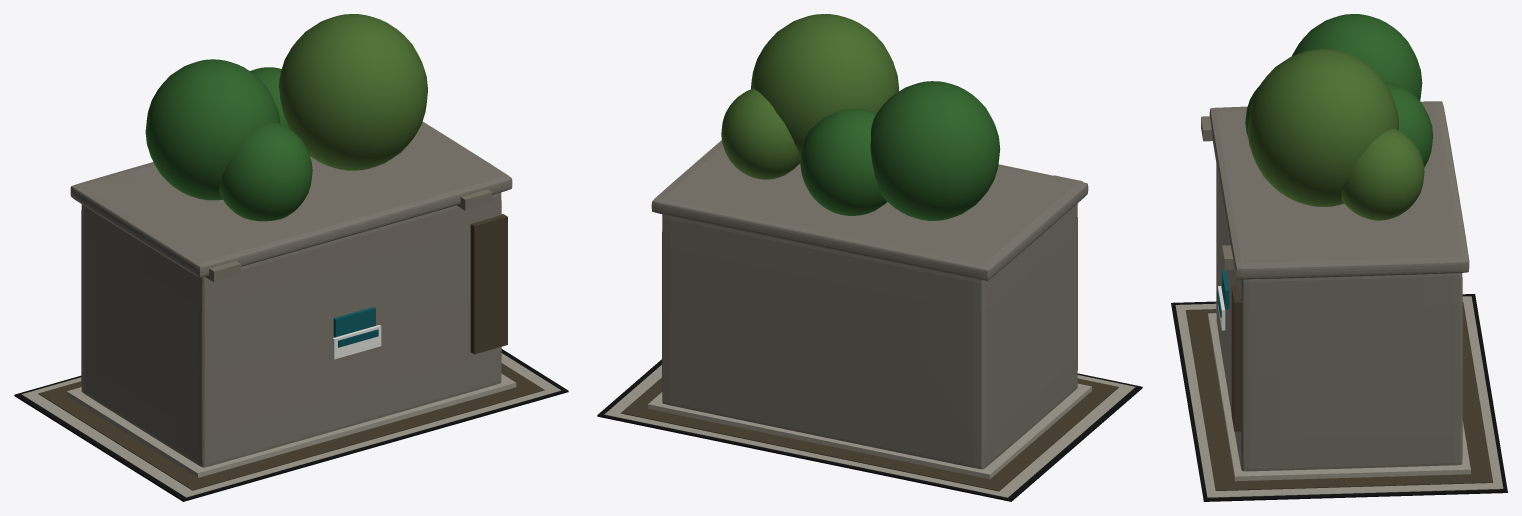
File: hm_prop_planter_v2.obj
3 views of the same model, side by side, from view 1: azimuth 30°, elevation 25°; view 2: azimuth 150°, elevation 25°; view 3: azimuth 270°, elevation 25° (orthographic).
Visible parts, largest first — view 1: Planter_Outer, Planter_Rim, Planter_Foliage_1, Planter_Foliage_0, hm_prop_planter_v2_Dirt, Planter_Foliage_4, Planter_Stain, hm_prop_planter_v2_SaltRing, Planter_Salt, hm_prop_planter_v2_Shadow, Planter_HM, hm_prop_planter_v2_AssetPlate (+1 smaller); view 2: Planter_Outer, Planter_Rim, Planter_Foliage_0, Planter_Foliage_1, hm_prop_planter_v2_Dirt, Planter_Foliage_2, Planter_Foliage_3, hm_prop_planter_v2_SaltRing, Planter_Salt, hm_prop_planter_v2_Shadow; view 3: Planter_Outer, Planter_Rim, Planter_Foliage_1, hm_prop_planter_v2_Dirt, hm_prop_planter_v2_SaltRing, Planter_Foliage_3, Planter_Foliage_0, Planter_Salt, hm_prop_planter_v2_Shadow, Planter_Foliage_2, Planter_Stain.
Boxes of the visible parts, x1,y1,x2,y2 form: Planter_Outer: (81, 192, 501, 467); Planter_Rim: (70, 121, 512, 277); Planter_Foliage_1: (278, 14, 427, 170); Planter_Foliage_0: (145, 59, 280, 200); hm_prop_planter_v2_Dirt: (38, 363, 544, 490); Planter_Foliage_4: (219, 122, 312, 221); Planter_Stain: (470, 214, 507, 354); hm_prop_planter_v2_SaltRing: (22, 353, 560, 497); Planter_Salt: (66, 373, 516, 477); hm_prop_planter_v2_Shadow: (14, 349, 568, 501); Planter_HM: (333, 307, 375, 337); hm_prop_planter_v2_AssetPlate: (332, 325, 381, 359); Planter_Outer: (662, 204, 1077, 469); Planter_Rim: (651, 140, 1088, 280); Planter_Foliage_0: (870, 81, 1000, 220); Planter_Foliage_1: (751, 14, 898, 164); hm_prop_planter_v2_Dirt: (621, 377, 1118, 491); Planter_Foliage_2: (800, 108, 887, 215); Planter_Foliage_3: (721, 88, 800, 179); hm_prop_planter_v2_SaltRing: (604, 365, 1135, 497); Planter_Salt: (648, 383, 1091, 478); hm_prop_planter_v2_Shadow: (597, 359, 1142, 501); Planter_Outer: (1216, 164, 1462, 471); Planter_Rim: (1209, 101, 1469, 279); Planter_Foliage_1: (1247, 49, 1398, 206); hm_prop_planter_v2_Dirt: (1185, 302, 1493, 490); hm_prop_planter_v2_SaltRing: (1175, 296, 1503, 497); Planter_Foliage_3: (1341, 128, 1424, 220); Planter_Foliage_0: (1292, 14, 1422, 100); Planter_Salt: (1208, 313, 1470, 481); hm_prop_planter_v2_Shadow: (1171, 294, 1507, 501); Planter_Foliage_2: (1385, 82, 1432, 167); Planter_Stain: (1231, 285, 1242, 431).
Size of the model in its own units: 1.2 by 0.9998 by 0.8259.
